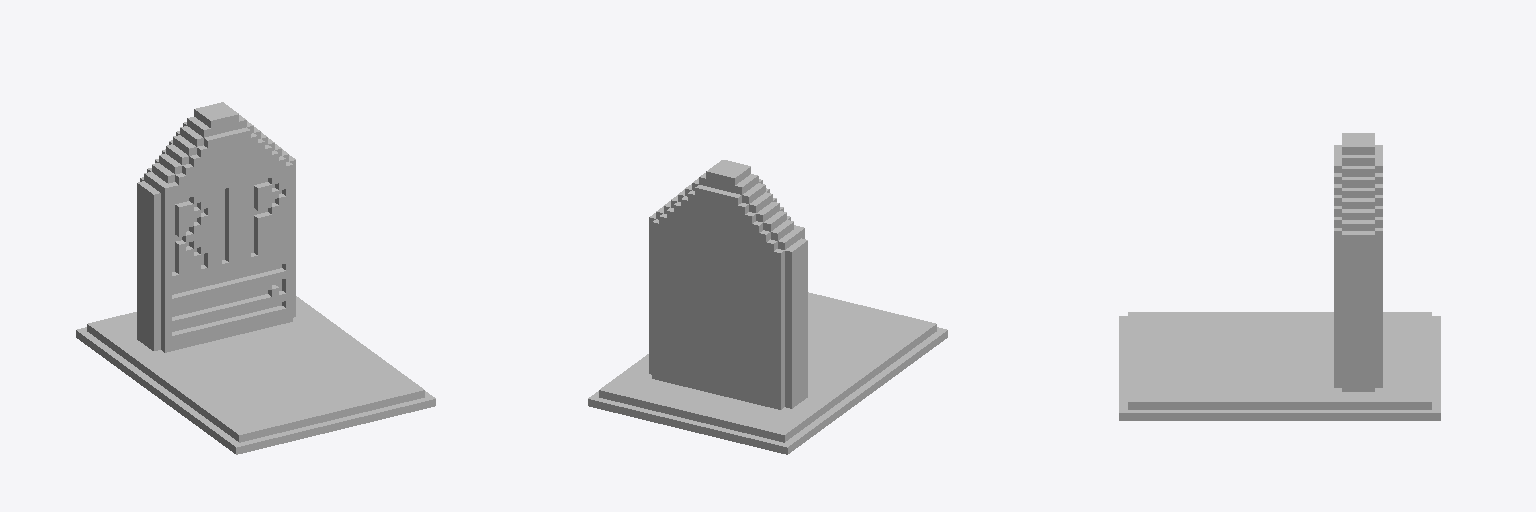
The model's file is Tombstone 2.obj.
The picture shows the model from 3 angles: view 1: azimuth 30°, elevation 25°; view 2: azimuth 150°, elevation 25°; view 3: azimuth 270°, elevation 25°; orthographic projection.
Visible parts, largest first — view 1: object 1; view 2: object 1; view 3: object 1.
Boxes of the visible parts, x1=… form: object 1: x1=76, y1=102, x2=435, y2=454; object 1: x1=588, y1=160, x2=947, y2=454; object 1: x1=1119, y1=133, x2=1440, y2=420.
Size of the model in its own units: 2.8 by 3.1 by 3.9.